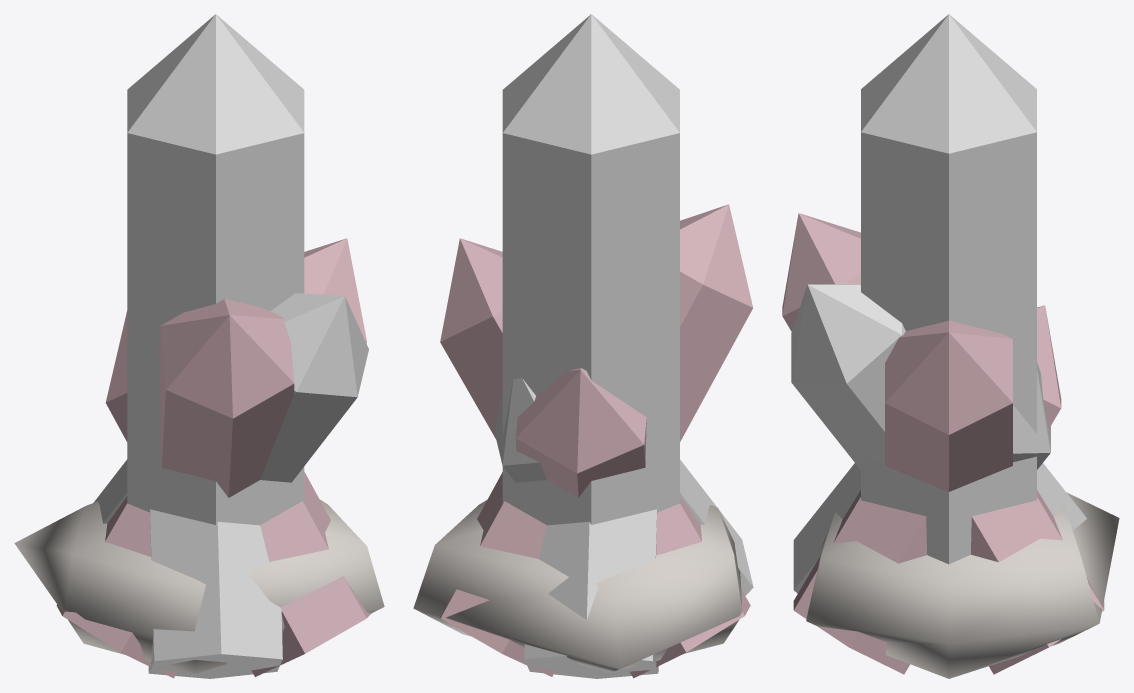
File: col_stone_quartz.gltf
3 views of the same model, side by side, from view 1: azimuth 30°, elevation 25°; view 2: azimuth 150°, elevation 25°; view 3: azimuth 270°, elevation 25° (orthographic).
Parts seen in each view (by area): view 1: col_stone_quartz; view 2: col_stone_quartz; view 3: col_stone_quartz.
Boxes of the visible parts, x1,y1,x2,y2 form: col_stone_quartz: (14, 14, 384, 678); col_stone_quartz: (413, 14, 753, 678); col_stone_quartz: (782, 14, 1119, 678).
Size of what is drawn, in the model's own units: 0.0753 by 0.1523 by 0.0729.
